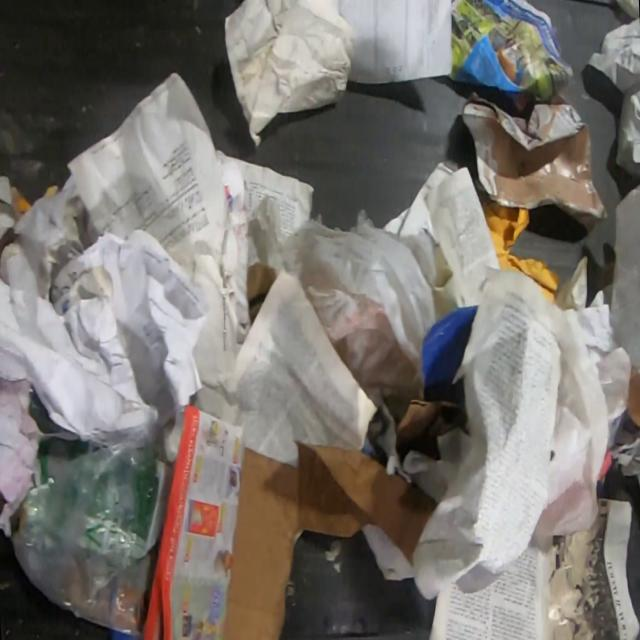cardboard: (223, 438, 440, 640), (460, 91, 608, 237)
soft_plastic: (298, 208, 437, 458), (10, 431, 172, 640), (601, 182, 640, 374)
